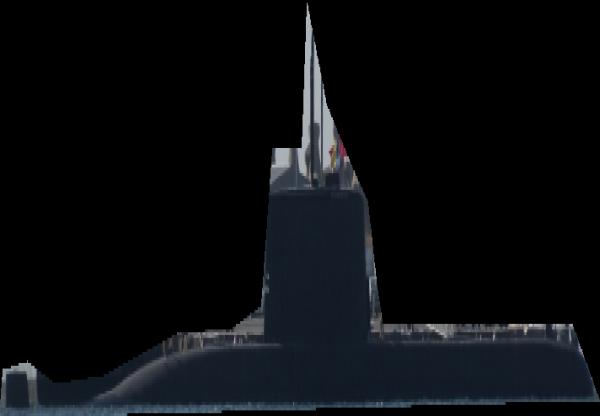Submarine: (0, 2, 600, 416)
